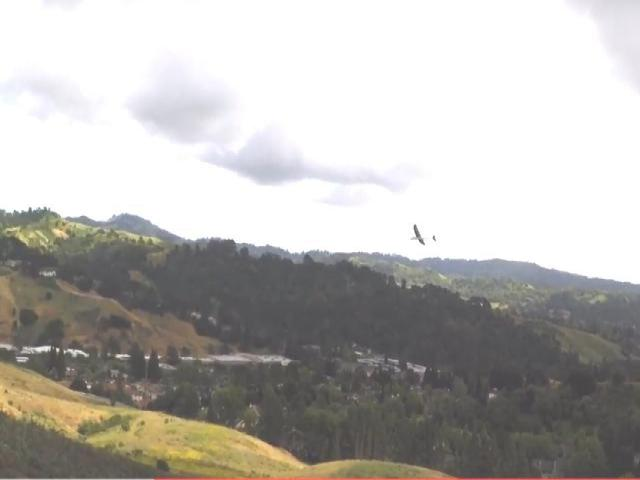iha: (403, 220, 438, 248)
